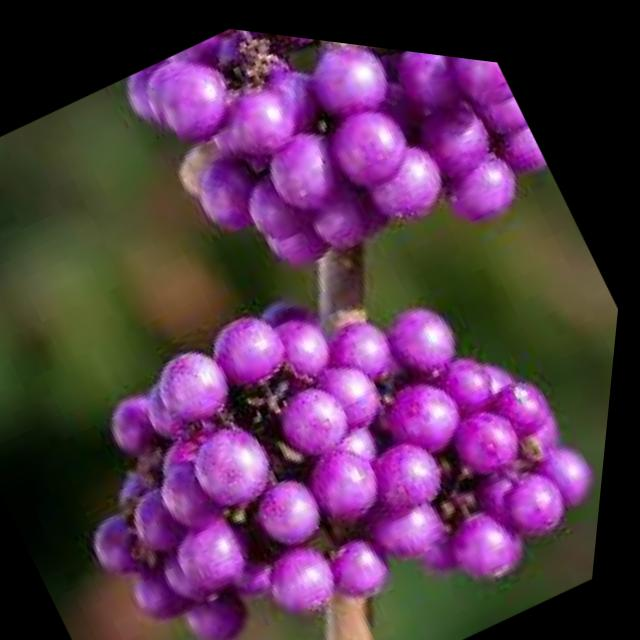Flower: (15, 149, 629, 640), (107, 13, 562, 343)
